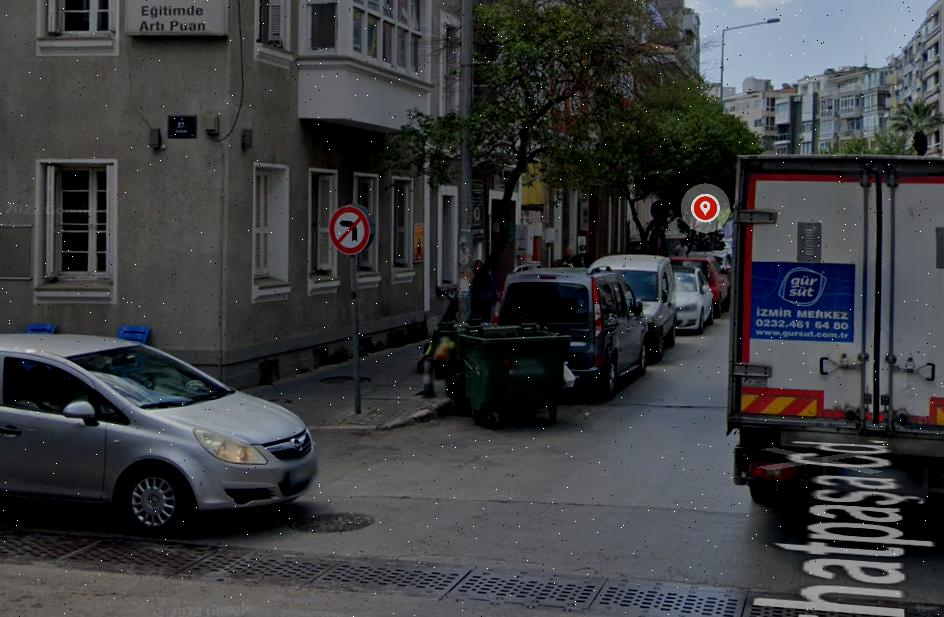leftturnsareforbidden: (331, 206, 369, 255)
